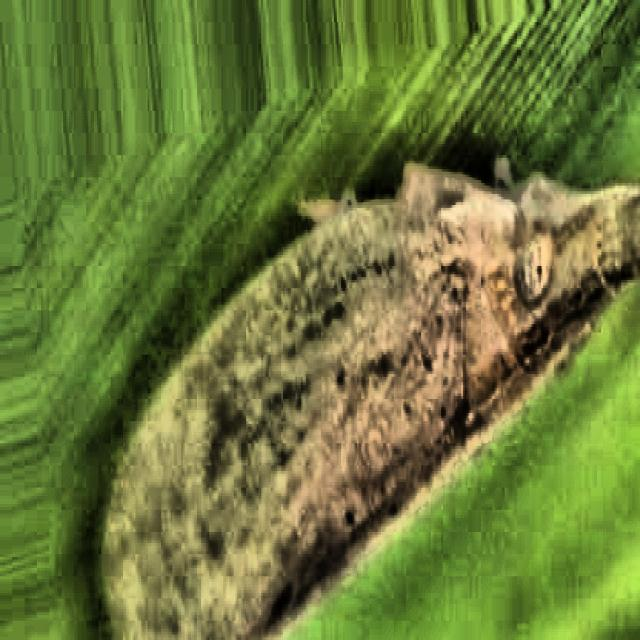Pyrilla-perpusilla: (80, 77, 640, 640)
